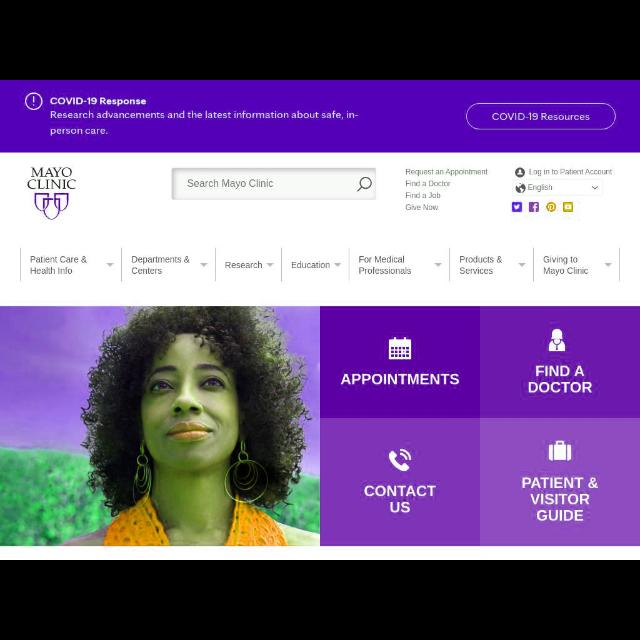icon: (388, 448, 412, 472), (389, 336, 411, 359), (548, 441, 572, 462), (549, 328, 565, 352), (25, 92, 43, 110), (358, 176, 372, 192), (515, 167, 525, 177), (516, 183, 526, 193), (605, 263, 613, 267), (518, 263, 526, 267), (435, 263, 443, 267), (334, 263, 342, 267), (266, 263, 274, 267), (200, 263, 208, 267), (106, 263, 114, 267), (592, 185, 598, 189)
image: (0, 306, 320, 546), (28, 168, 78, 220), (512, 202, 522, 212), (529, 202, 539, 212), (546, 202, 556, 212), (563, 202, 573, 212)
input: (171, 167, 375, 201)
panel: (1, 80, 638, 152)
spinner: (512, 180, 602, 194)
text: (522, 477, 598, 521), (49, 110, 358, 120), (364, 485, 436, 513), (529, 365, 593, 393), (340, 374, 460, 384), (132, 256, 190, 274), (31, 256, 88, 274), (50, 97, 146, 107), (359, 256, 411, 274), (544, 256, 588, 276), (188, 179, 274, 189), (492, 113, 590, 121), (460, 256, 502, 274), (529, 168, 613, 176), (406, 168, 488, 176), (50, 128, 108, 136), (406, 181, 450, 187), (292, 262, 330, 268), (225, 262, 262, 268), (406, 192, 442, 198), (406, 204, 438, 210), (528, 184, 552, 192)
textbutton: (322, 418, 481, 546), (481, 418, 639, 546), (320, 306, 480, 418), (480, 306, 640, 418), (466, 103, 616, 131)
toolbar: (1, 153, 640, 305)
